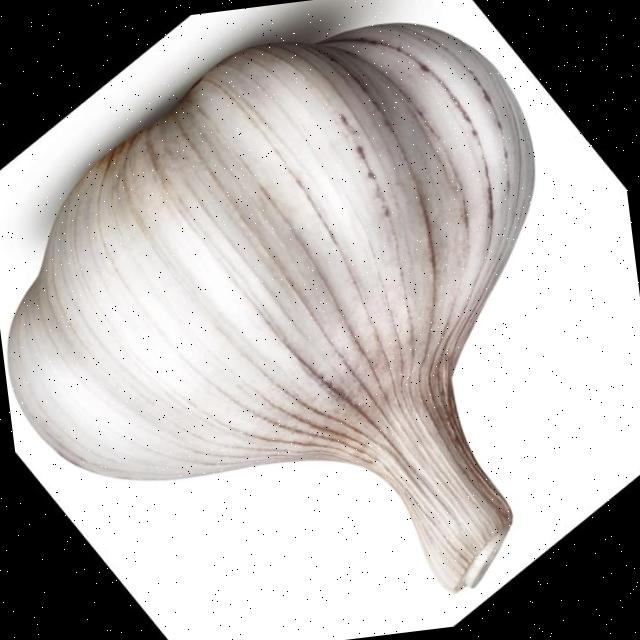garlic: (7, 22, 533, 590)
